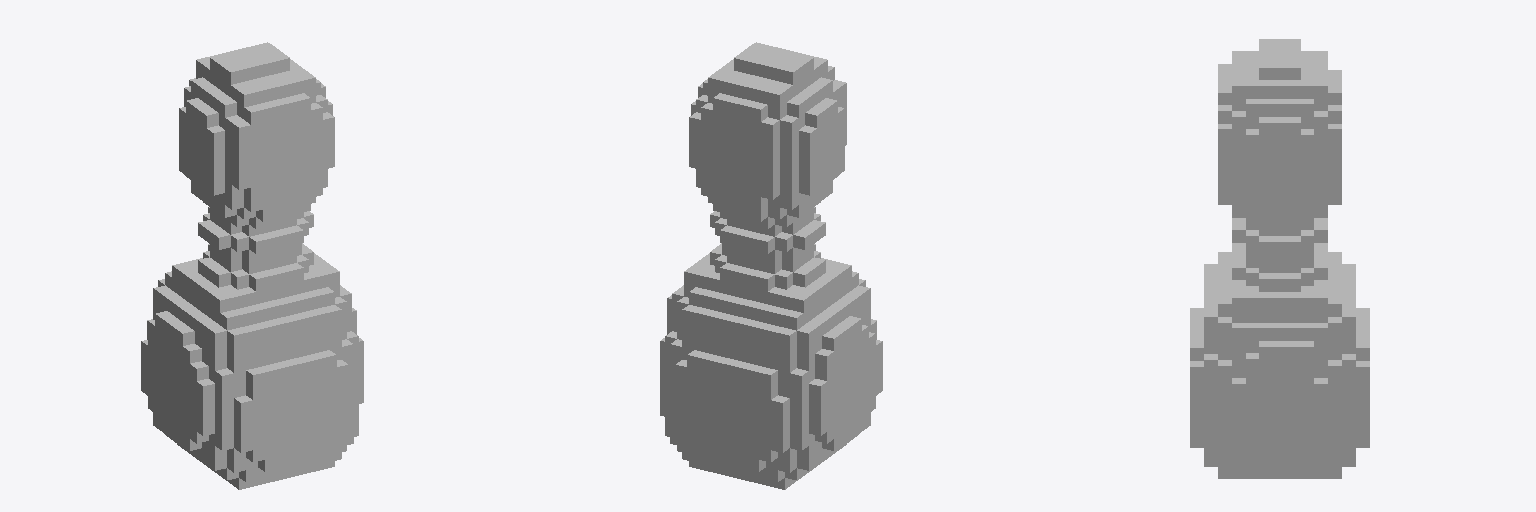
File: bopin-solid-9.obj
3 views of the same model, side by side, from view 1: azimuth 30°, elevation 25°; view 2: azimuth 150°, elevation 25°; view 3: azimuth 270°, elevation 25° (orthographic).
Parts seen in each view (by area): view 1: model_0; view 2: model_0; view 3: model_0.
Part boxes in pixels (x1,y1,x2,y2): model_0: (141, 42, 363, 489); model_0: (660, 42, 882, 489); model_0: (1190, 39, 1369, 478).
Bounding box in the file's own units: 14 × 32 × 13.